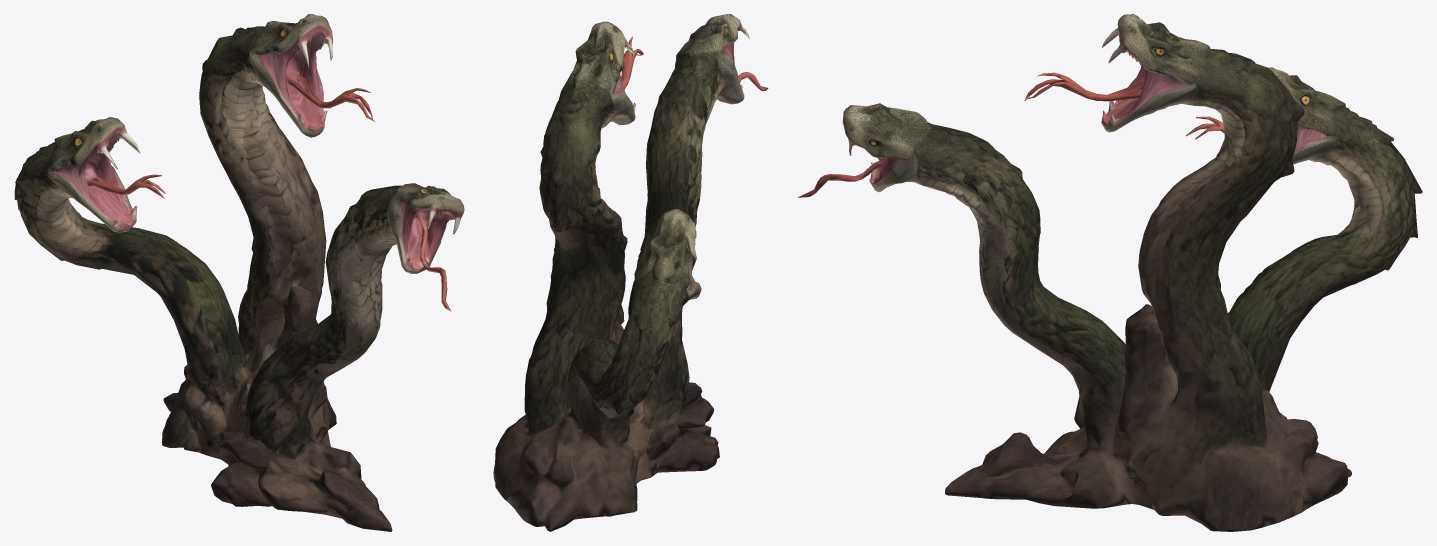
The model's file is Snakes.glb.
3 views of the same model, side by side, from view 1: azimuth 30°, elevation 25°; view 2: azimuth 150°, elevation 25°; view 3: azimuth 270°, elevation 25° (orthographic). The views are drawn at different scales.
Parts seen in each view (by area): view 1: Mesh_0; view 2: Mesh_0; view 3: Mesh_0.
Part boxes in pixels (box(x1,y1,x2,y2)): Mesh_0: box(14, 14, 464, 531); Mesh_0: box(493, 14, 768, 531); Mesh_0: box(798, 14, 1422, 531).
Size of the model in its own units: 0.9207 by 1.62 by 1.9.
Materials: 1 (1 with a texture image).
